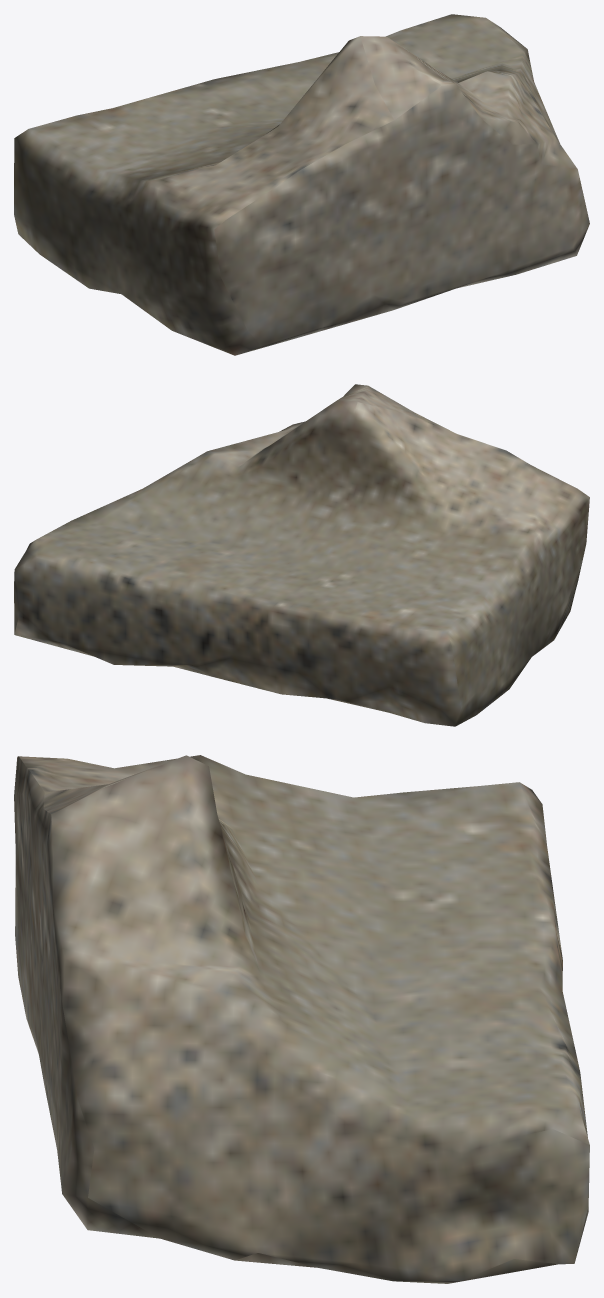
Rendered from Concrete_Rubble3.fbx.
The picture shows the model from 3 angles, top to bottom: view 1: azimuth 30°, elevation 25°; view 2: azimuth 150°, elevation 25°; view 3: azimuth 270°, elevation 25°; orthographic projection. The views are drawn at different scales.
Parts seen in each view (by area): view 1: Concrete_Rubble3; view 2: Concrete_Rubble3; view 3: Concrete_Rubble3.
Boxes of the visible parts, box(x1,y1,x2,y2) form: Concrete_Rubble3: box(14, 14, 589, 355); Concrete_Rubble3: box(14, 384, 589, 726); Concrete_Rubble3: box(14, 755, 589, 1283).
Bounding box in the file's own units: 9.14 × 4.14 × 6.23.
